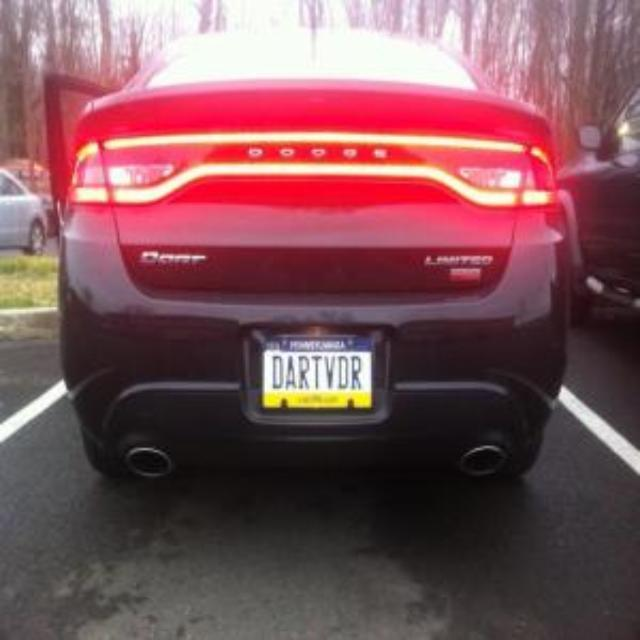License Plate: (263, 337, 372, 408)
